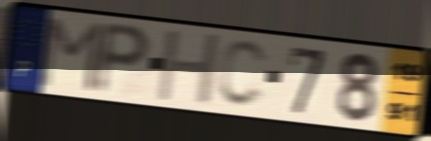7: (287, 44, 328, 116)
8: (335, 51, 382, 125)
C: (215, 38, 271, 111)
H: (154, 29, 224, 106)
M: (35, 16, 107, 96)
P: (92, 18, 154, 98)
